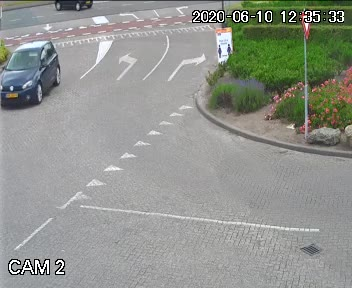car: (0, 41, 67, 120), (49, 0, 104, 15)
